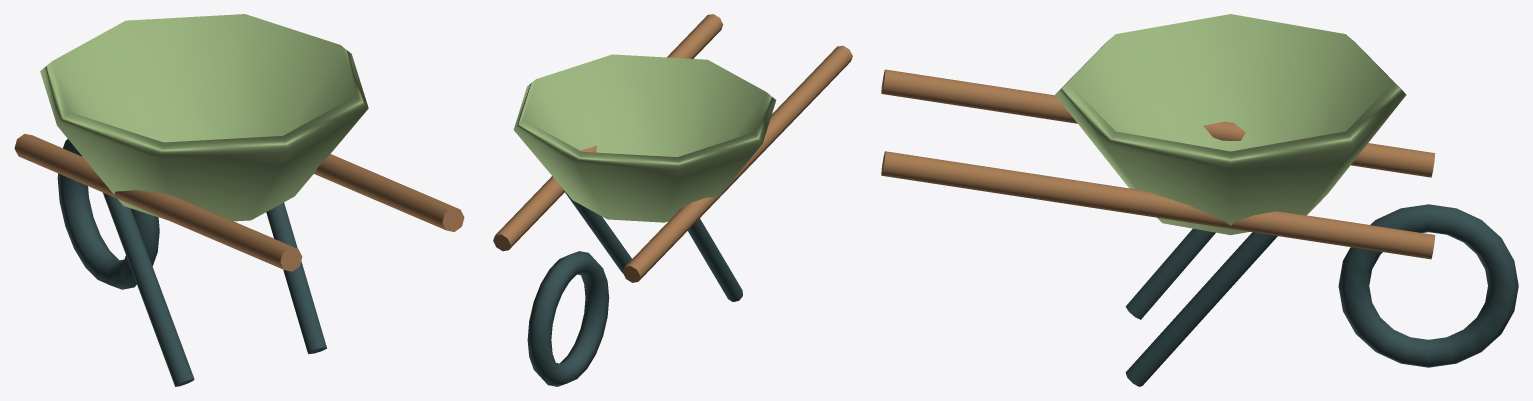
The model's file is almanac-gardens-wheelbarrow-2b0df1a3__22028.glb.
The picture shows the model from 3 angles, left to right: view 1: azimuth 30°, elevation 25°; view 2: azimuth 150°, elevation 25°; view 3: azimuth 270°, elevation 25°; orthographic projection. The views are drawn at different scales.
Visible parts, largest first — view 1: wheelbarrow-sage, wheelbarrow-iron, wheelbarrow-oak; view 2: wheelbarrow-sage, wheelbarrow-iron, wheelbarrow-oak; view 3: wheelbarrow-sage, wheelbarrow-oak, wheelbarrow-iron.
Part boxes in pixels (x1,y1,x2,y2): wheelbarrow-sage: [40, 14, 368, 221]; wheelbarrow-iron: [57, 139, 326, 386]; wheelbarrow-oak: [14, 133, 464, 271]; wheelbarrow-sage: [513, 54, 776, 222]; wheelbarrow-iron: [527, 192, 742, 386]; wheelbarrow-oak: [493, 14, 852, 282]; wheelbarrow-sage: [1055, 14, 1406, 235]; wheelbarrow-oak: [881, 69, 1435, 259]; wheelbarrow-iron: [1125, 204, 1518, 386].
Bounding box in the file's own units: 0.8 × 0.715 × 1.45.
